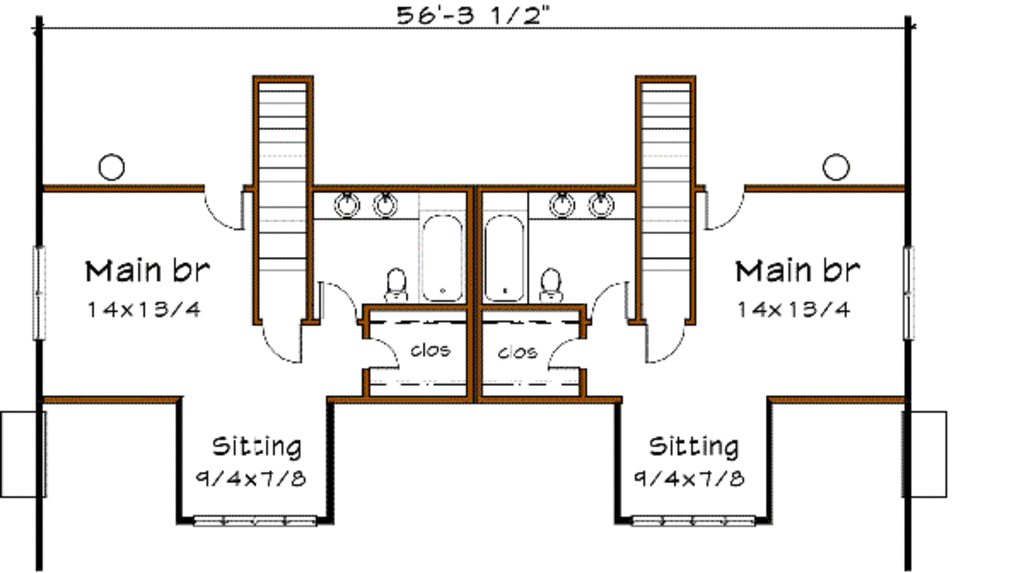door: (200, 180, 256, 237), (640, 310, 688, 365), (256, 318, 310, 366), (703, 187, 753, 232), (586, 281, 632, 323), (319, 279, 361, 320), (537, 334, 587, 366), (364, 332, 401, 375)
large_sink: (526, 260, 564, 309), (379, 265, 409, 306)
small_sink: (302, 182, 423, 223), (527, 190, 639, 220)
stairs: (254, 70, 315, 317), (634, 72, 694, 315)
tub: (414, 191, 469, 304), (483, 191, 528, 303)
window: (628, 511, 761, 530), (28, 244, 50, 341), (901, 243, 916, 340), (185, 517, 327, 527)
